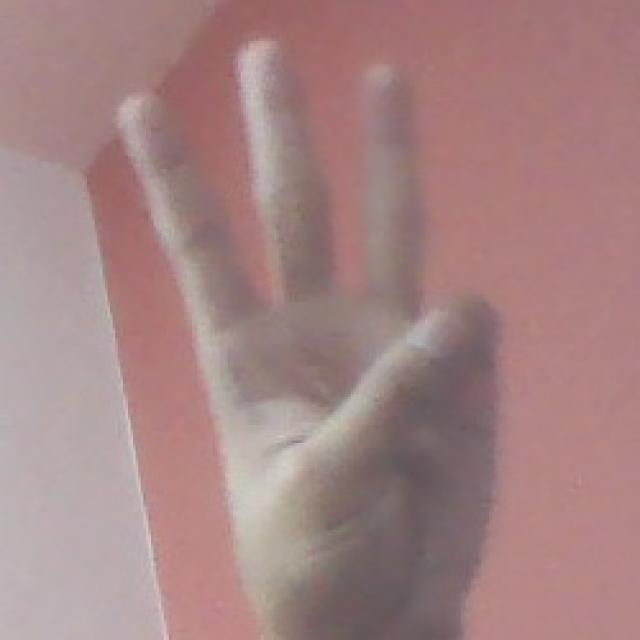Numeric-6: (113, 31, 508, 617)
